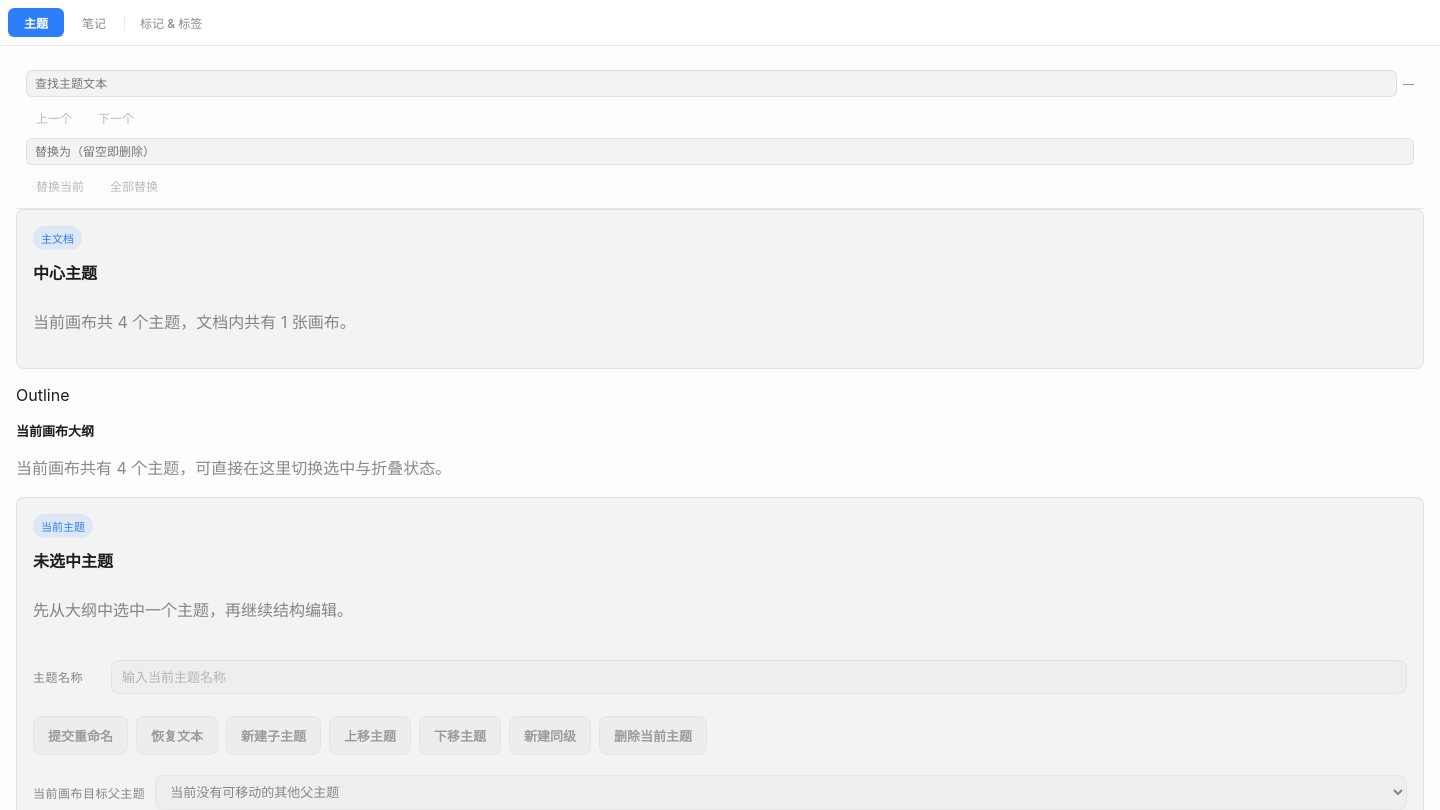
shows an empty state in the 笔记 tab when no topic is selected
Click the tab "笔记": (94, 22) [66,8,122,37]
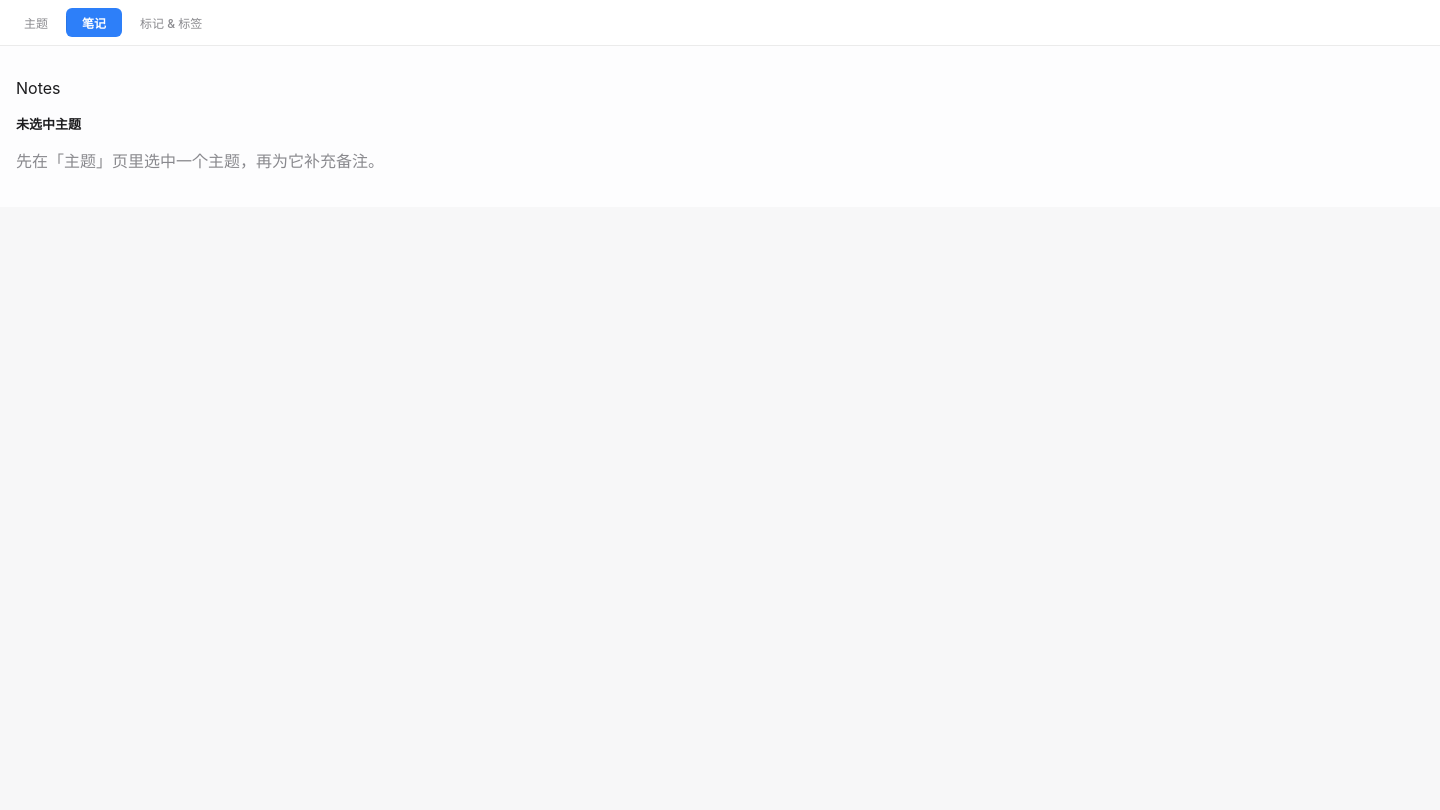
Expected: the heading "未选中主题" is shown, [16,116,81,132]
